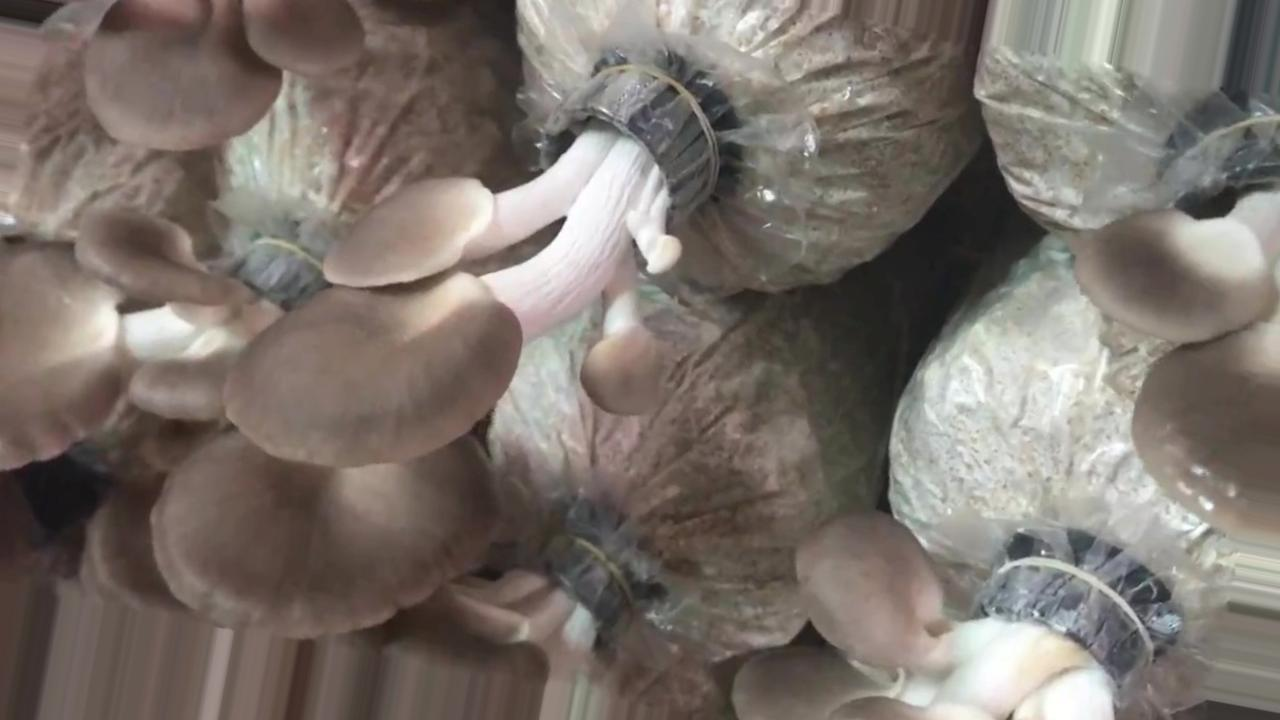nam: (145, 48, 725, 648), (732, 520, 1182, 720), (1, 199, 328, 472), (1070, 118, 1280, 530), (372, 532, 652, 720), (86, 1, 367, 152)
